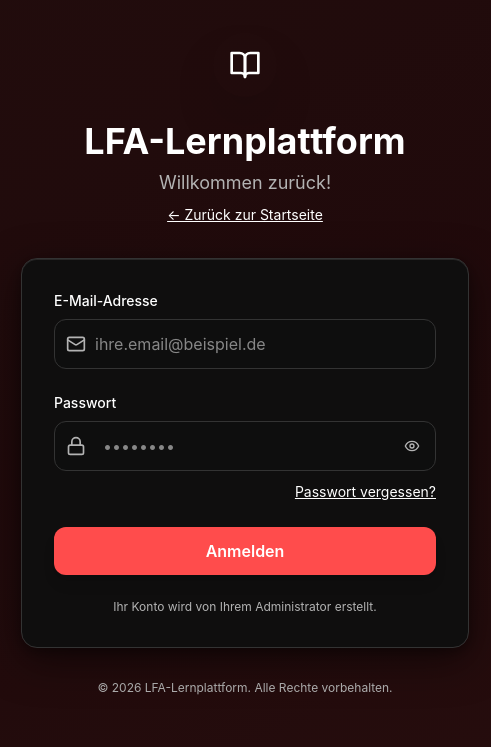
LoginForm reasons and blocked sign ins › a sign in that is stopped › shows the translated message of organizationDeactivated
Step 1. Type "azubi@example.com" into the field labelled "E-Mail-Adresse" → (245, 344), box [54,318,436,368]
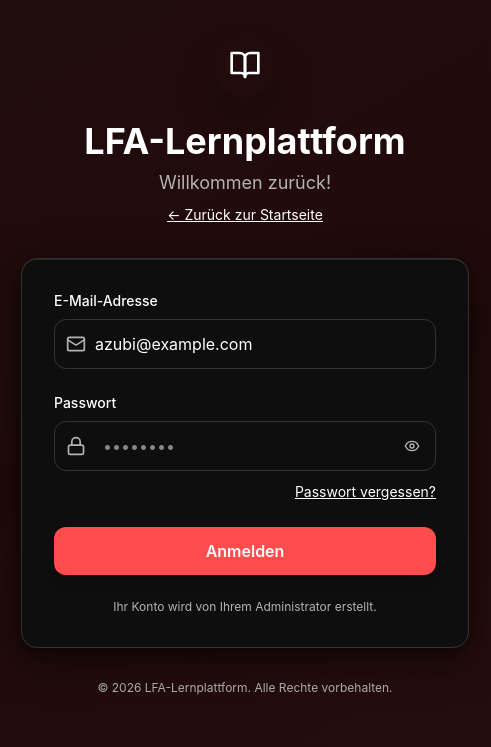
Step 2. Type "geheim" into the password field labelled "Passwort" → (245, 446), box [54,420,436,470]
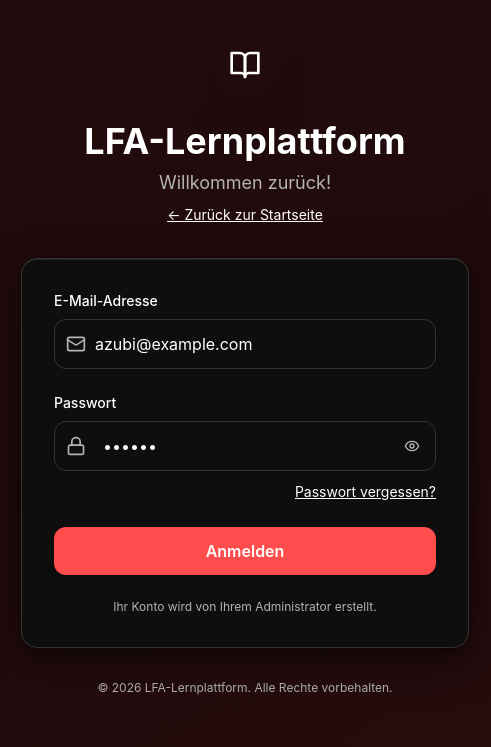
Step 3. Click the button "Anmelden" → (245, 550), box [54,526,436,574]
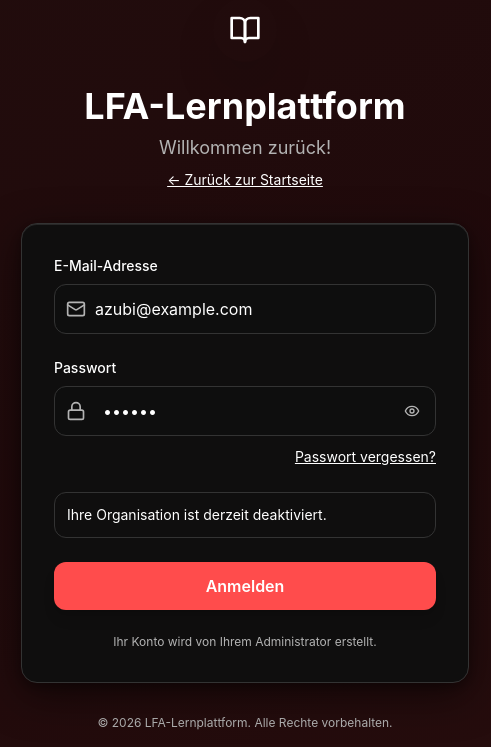
expect the message reads "Ihre Organisation ist derzeit deaktiviert.": met, box [67,506,327,522]
